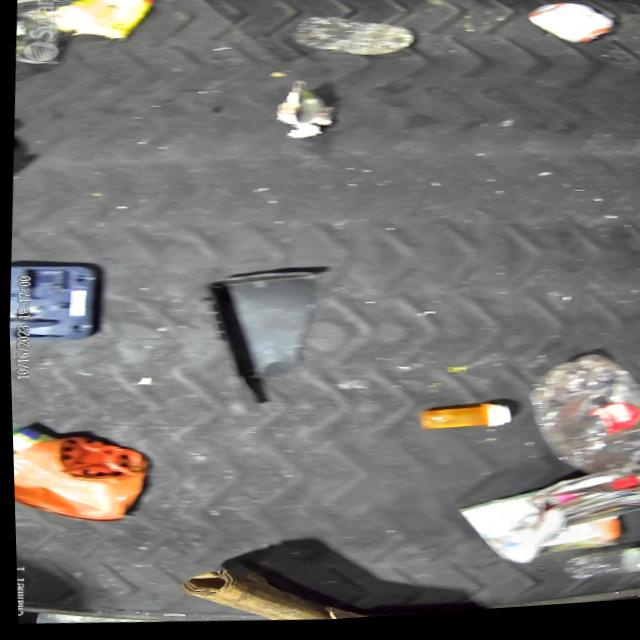can: (447, 488, 630, 580), (519, 467, 640, 542), (523, 3, 614, 58), (270, 79, 328, 135)
plastic_bottle: (514, 353, 640, 503), (283, 13, 417, 69), (554, 548, 640, 593)
